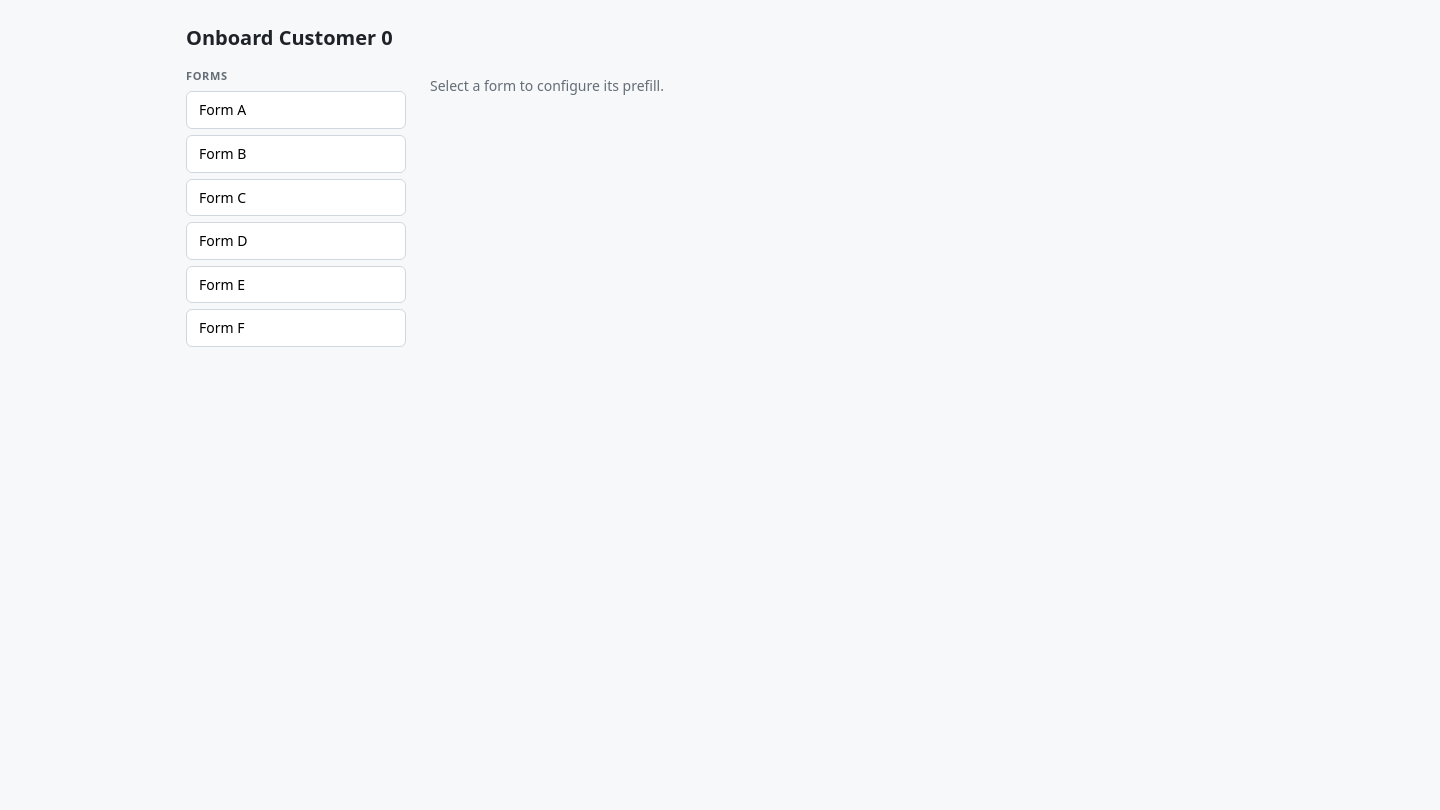
the prefill flow › offers nothing but a message when no source applies
The width and height of the screenshot is (1440, 810).
Expected: the heading "Onboard Customer 0" is shown, [186,24,393,51]
Click the button "Form A": {"x": 296, "y": 110} [186,91,406,129]
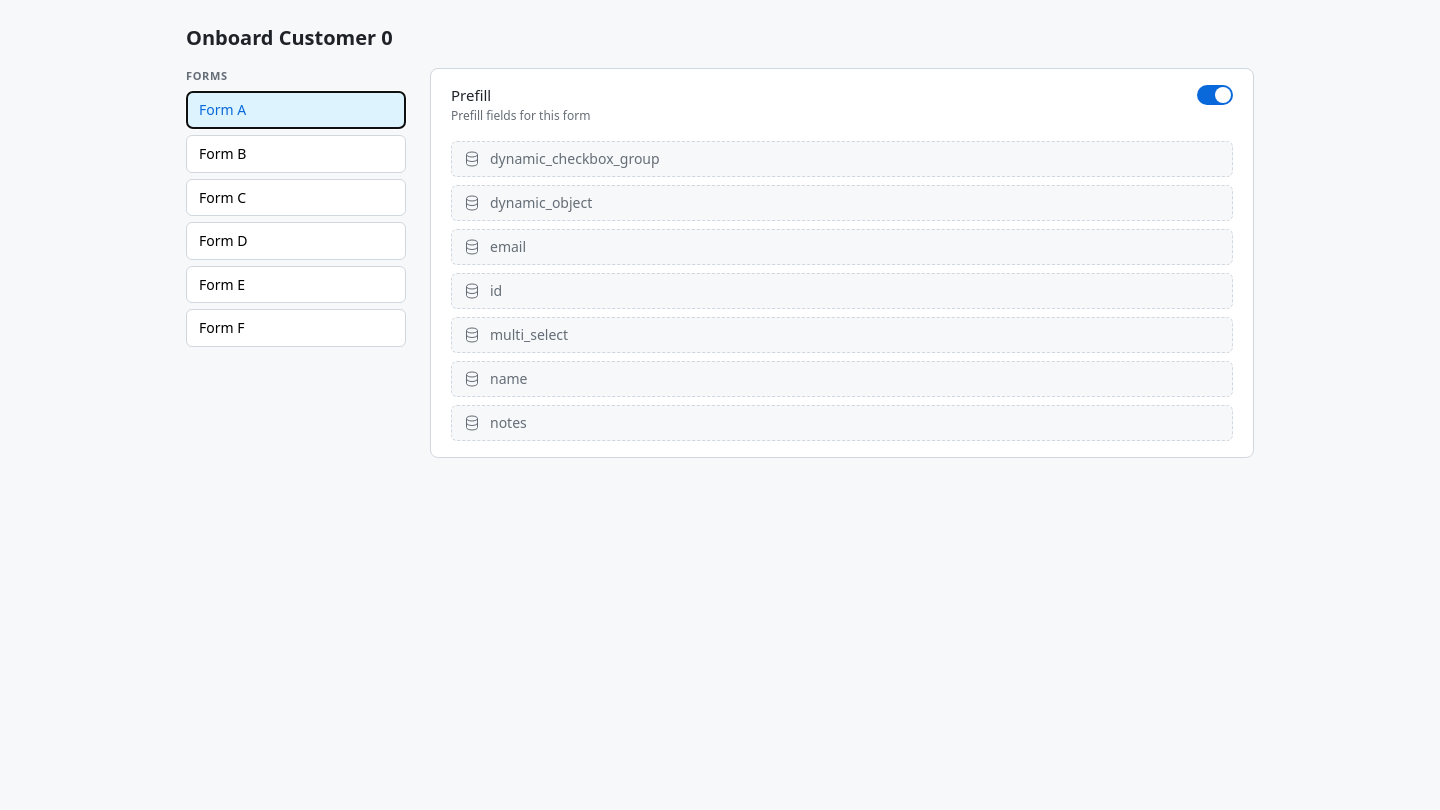
Click the button with aria-label "email, no prefill configured": {"x": 508, "y": 246} [451,229,1233,265]
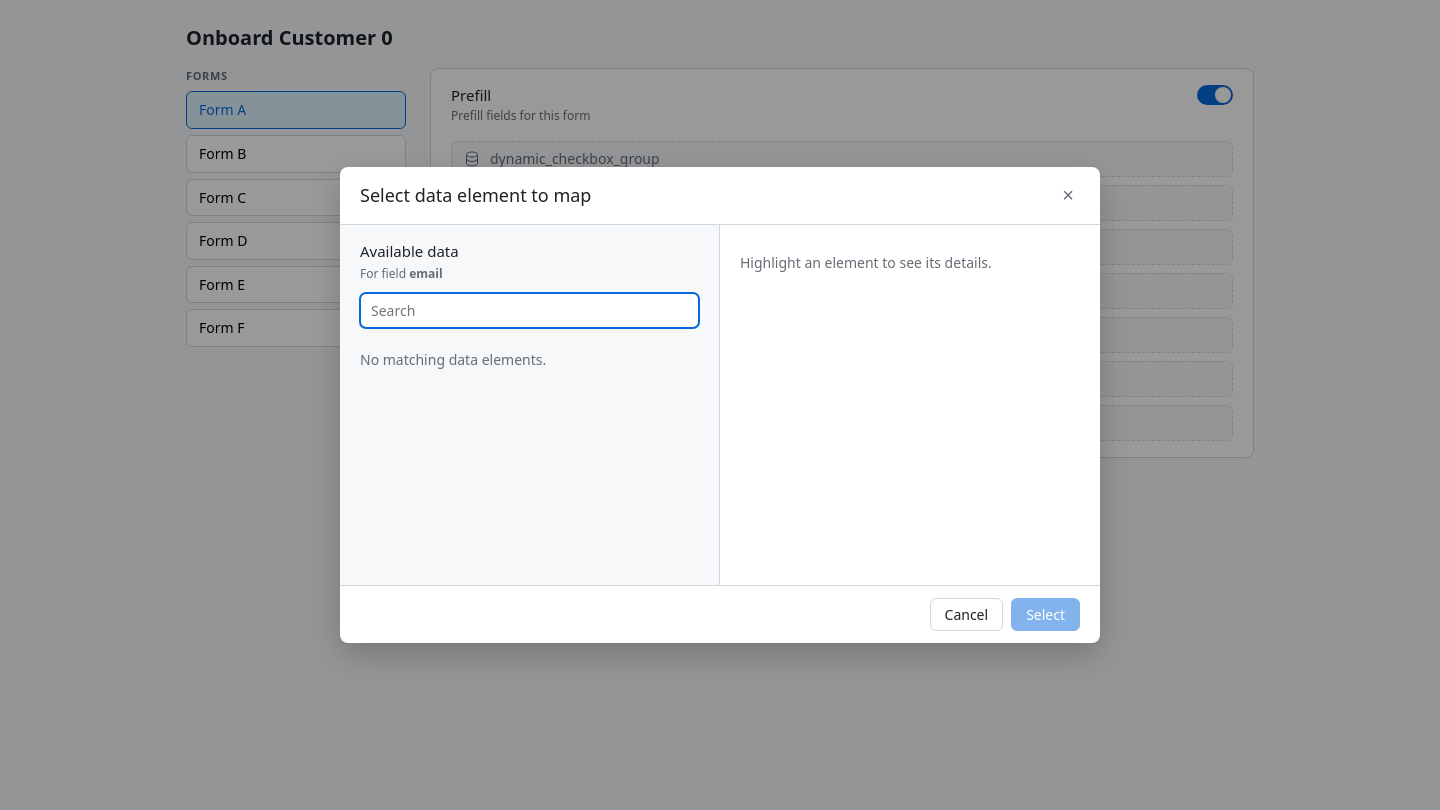
Result: the text "No matching data elements." is shown at [360,350,546,369]
